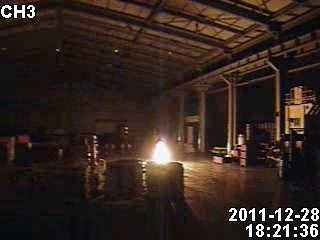fire: (150, 137, 173, 164)
